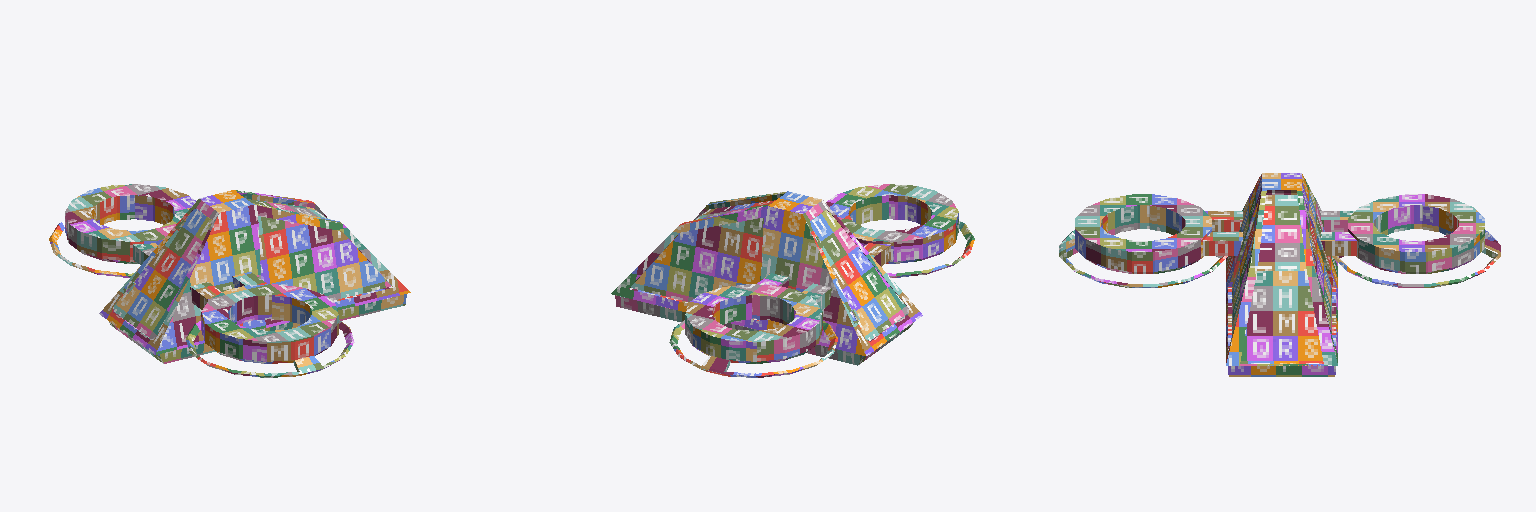
The picture shows the model from 3 angles: view 1: azimuth 30°, elevation 25°; view 2: azimuth 150°, elevation 25°; view 3: azimuth 270°, elevation 25°; orthographic projection.
Parts seen in each view (by area): view 1: Cube1; view 2: Cube1; view 3: Cube1.
Boxes of the visible parts, <box> form: Cube1: <box>49,184,410,377</box>; Cube1: <box>611,184,974,377</box>; Cube1: <box>1059,173,1500,376</box>.
Size of the model in its own units: 7.33 by 3.33 by 10.96.
1 materials, 1 textured.